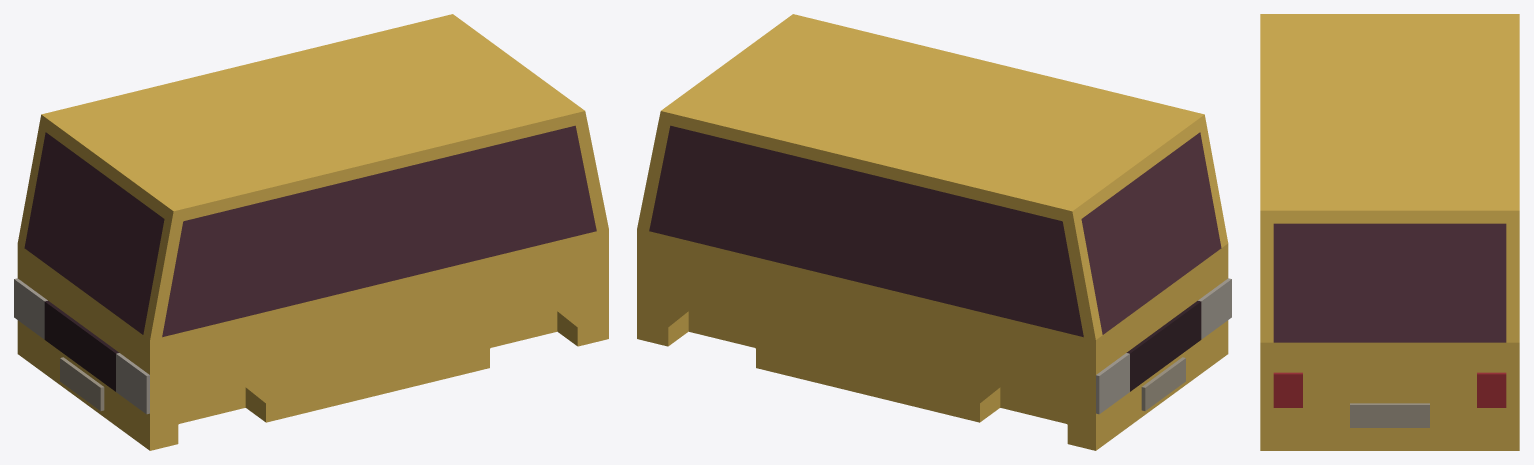
File: MiniVan_Yellow.fbx
The picture shows the model from 3 angles, left to right: view 1: azimuth 30°, elevation 25°; view 2: azimuth 150°, elevation 25°; view 3: azimuth 270°, elevation 25°; orthographic projection. The views are drawn at different scales.
Visible parts, largest first — view 1: MiniVan_Yellow, MiniVan_Lights; view 2: MiniVan_Yellow, MiniVan_Lights; view 3: MiniVan_Yellow, MiniVan_Lights.
Part boxes in pixels (box(x1,y1,x2,y2)): MiniVan_Yellow: box(17, 14, 608, 450); MiniVan_Lights: box(14, 278, 149, 414); MiniVan_Yellow: box(637, 14, 1228, 450); MiniVan_Lights: box(1096, 278, 1231, 414); MiniVan_Yellow: box(1260, 14, 1519, 450); MiniVan_Lights: box(1273, 372, 1506, 407).
Bounding box in the file's own units: 3.96 × 1.9 × 1.95.
